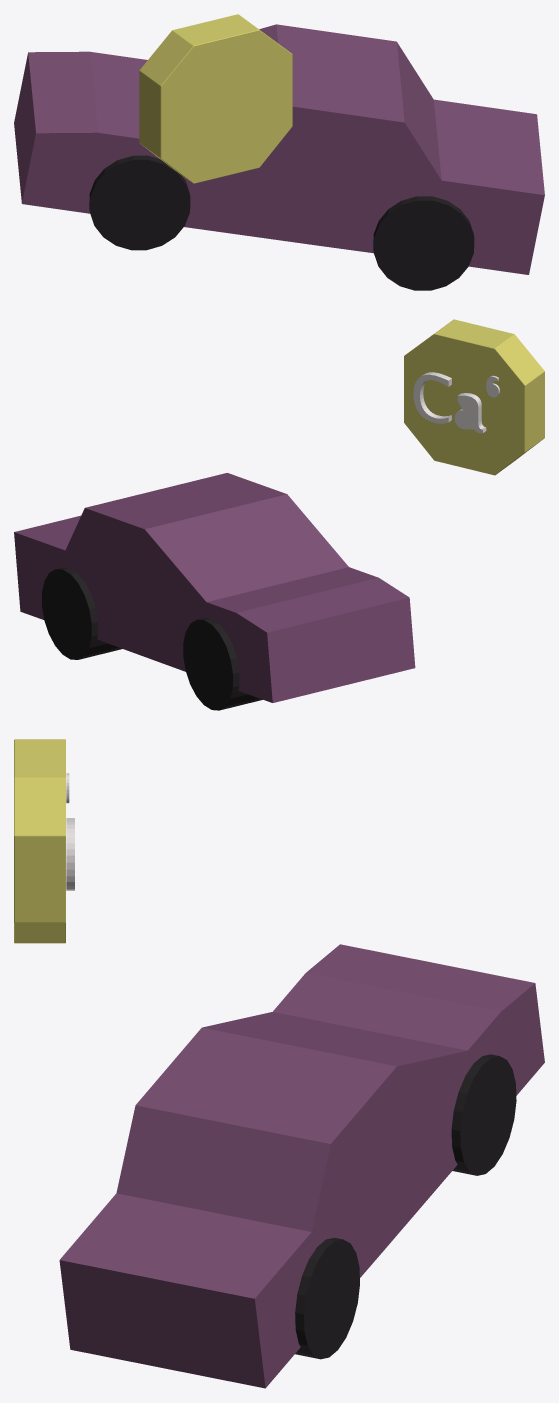
Rendered from Carbon Object.fbx.
3 views of the same model, one above another, from view 1: azimuth 30°, elevation 25°; view 2: azimuth 150°, elevation 25°; view 3: azimuth 270°, elevation 25° (orthographic). The views are drawn at different scales.
Parts seen in each view (by area): view 1: typeMesh1; view 2: typeMesh1; view 3: typeMesh1.
Part boxes in pixels (x1,y1,x2,y2): typeMesh1: (14, 14, 544, 290); typeMesh1: (14, 319, 544, 710); typeMesh1: (14, 739, 544, 1388).
Bounding box in the file's own units: 3.61 × 2.49 × 2.91.
